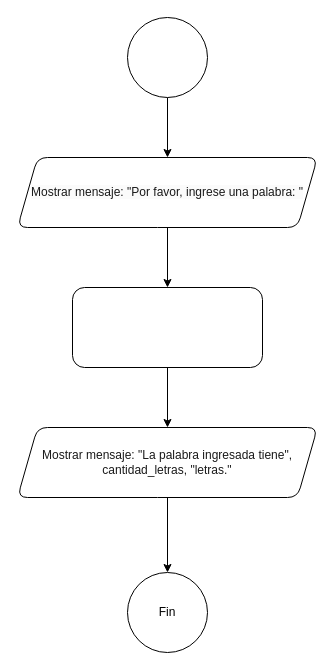
Image size: 335x670. Some labels were removed from this diagram. The shapes that lost their labels are listed below. From the top down, each one's box as (x1, y1, x2, y2) in pixels, then its label:
(126, 16, 208, 98): Inicio
(72, 286, 262, 368): Definir variable palabra_ingresada con la lectura de la entrada
